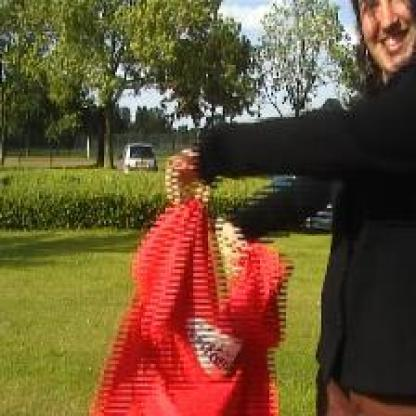other: (102, 195, 284, 409)
